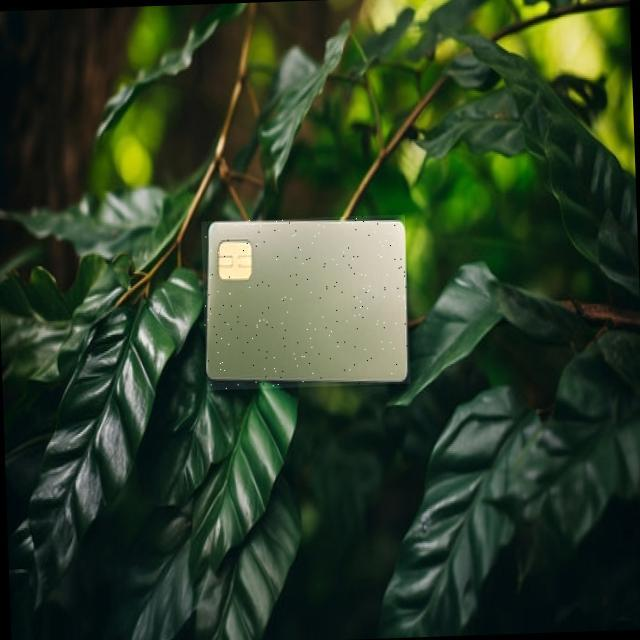payment_card: (204, 218, 408, 384)
